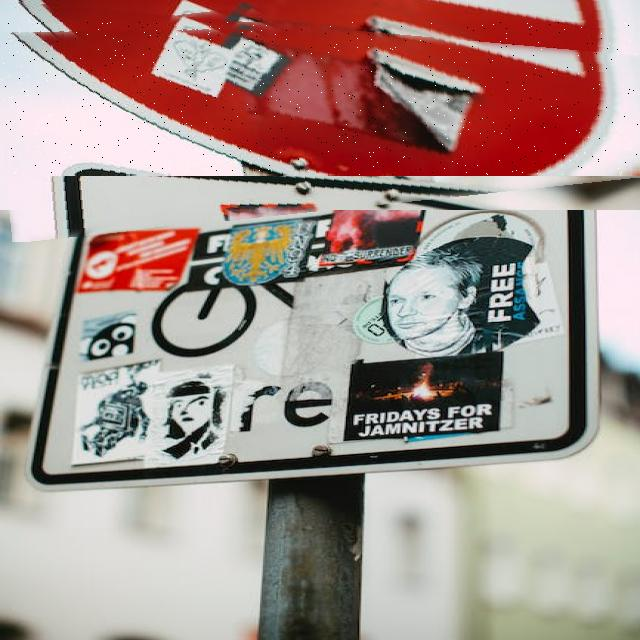no entry: (1, 23, 640, 175)
